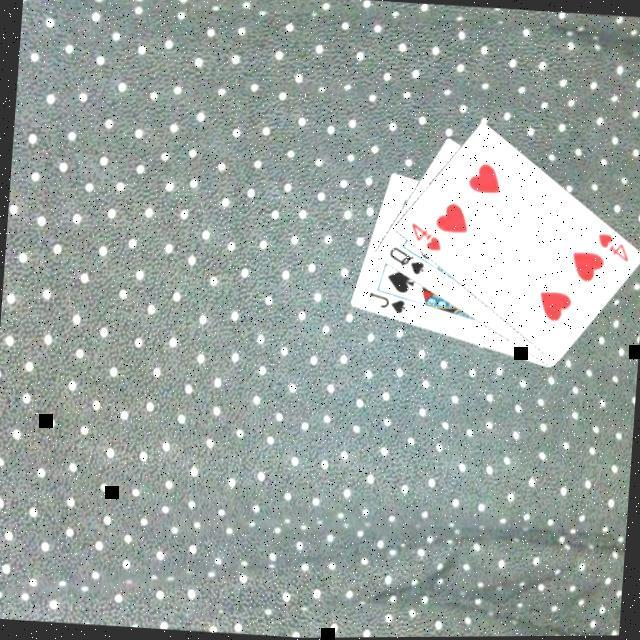4H: (403, 220, 443, 257), (590, 231, 630, 268)
JS: (361, 290, 407, 319)
QS: (382, 244, 426, 280)
